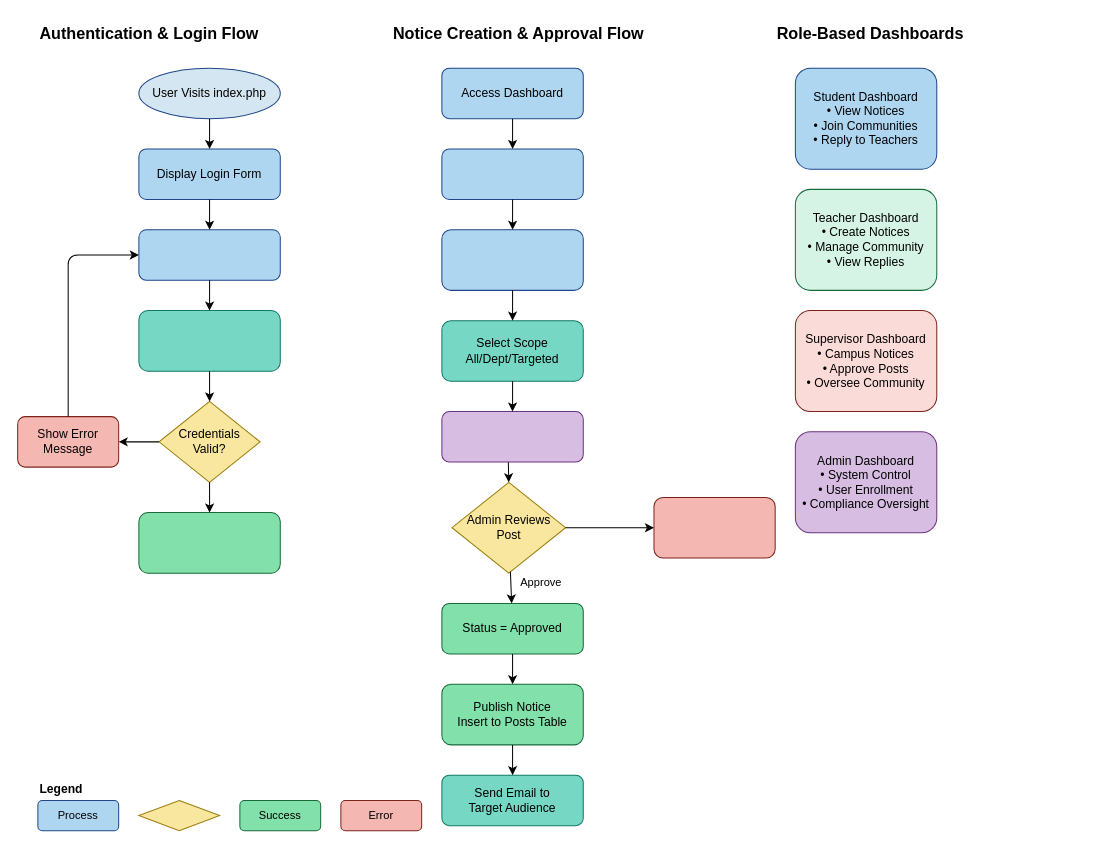
The diagram is 1096 pixels wide and 848 high, and some of its shapes have lost their labels. The shapes that lost their labels are listed below. From the top down, each one's box as (x1, y1, x2, y2) in pixels, then its label:
(441, 148, 583, 199): Click Create Notice
(138, 229, 280, 280): Enter Roll Number & Password
(441, 229, 583, 290): Fill Notice Form Content, Image, Expiry
(138, 310, 280, 371): Query Database Verify Credentials
(441, 411, 583, 462): Submit for Approval
(138, 512, 280, 573): Route to Dashboard Based on Role
(653, 496, 775, 558): Status = Rejected Delete Post
(138, 799, 220, 831): Decision
